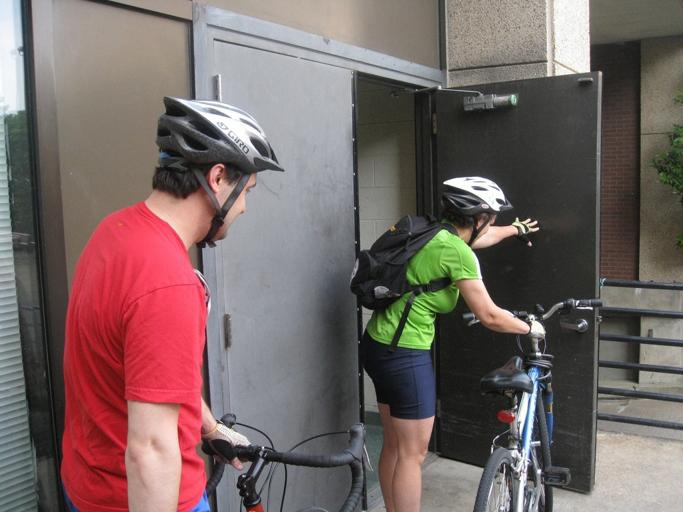non-vehicle: (462, 292, 606, 511), (197, 412, 381, 511)
